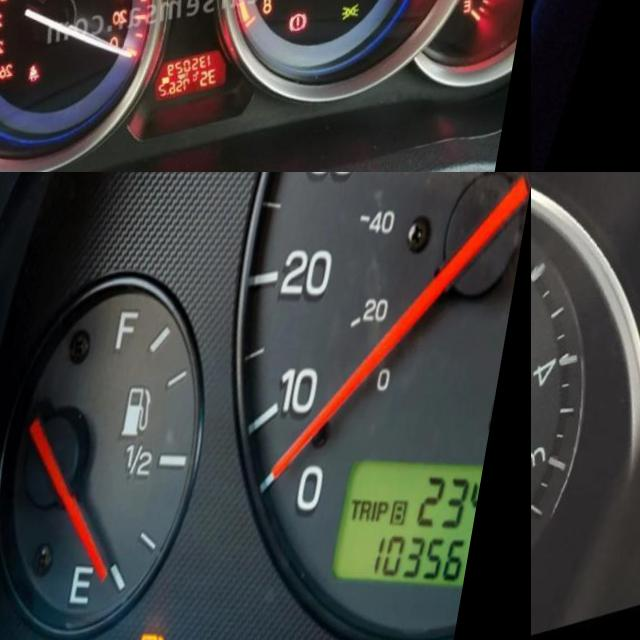Seat Belt: (42, 65, 55, 83)
